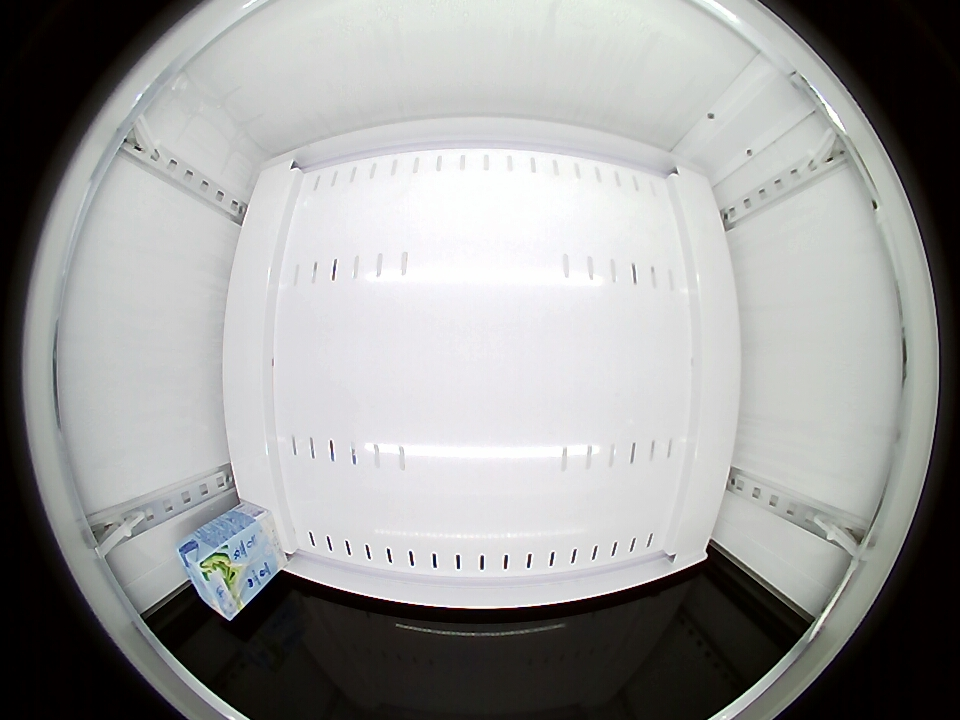weitanaiditang: (177, 527, 253, 621)
